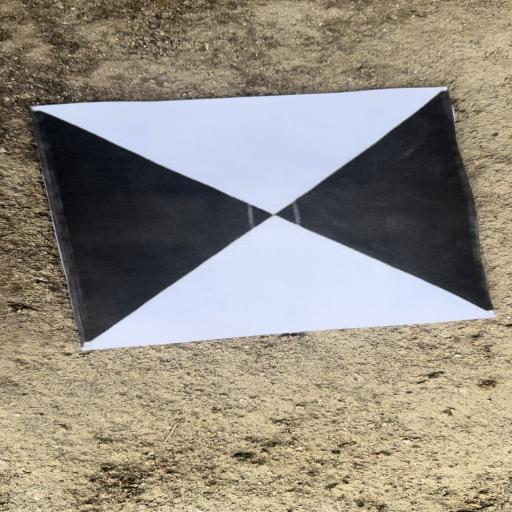target: (41, 86, 494, 351)
